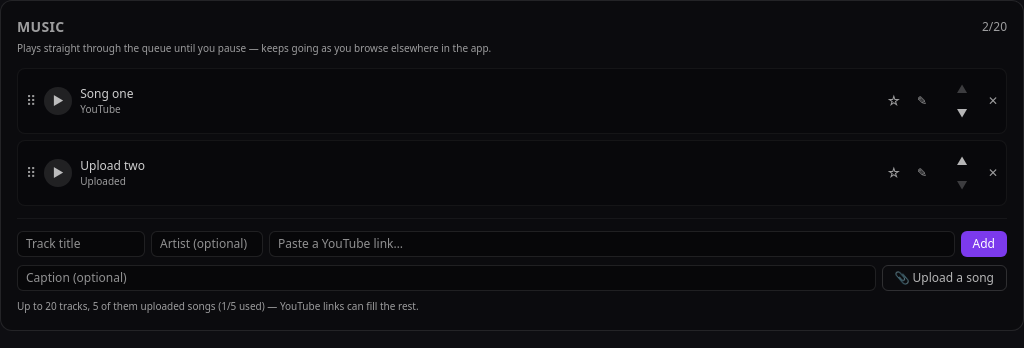
MusicPlayer › removes a track
Click the button "✕" in the row of "Song one": coordinates (993, 101) [988, 93, 998, 109]
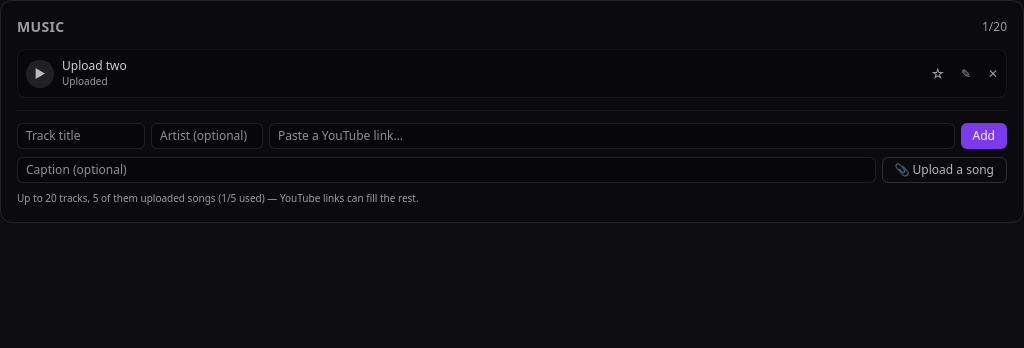
expect the text "Song one" is gone: met
